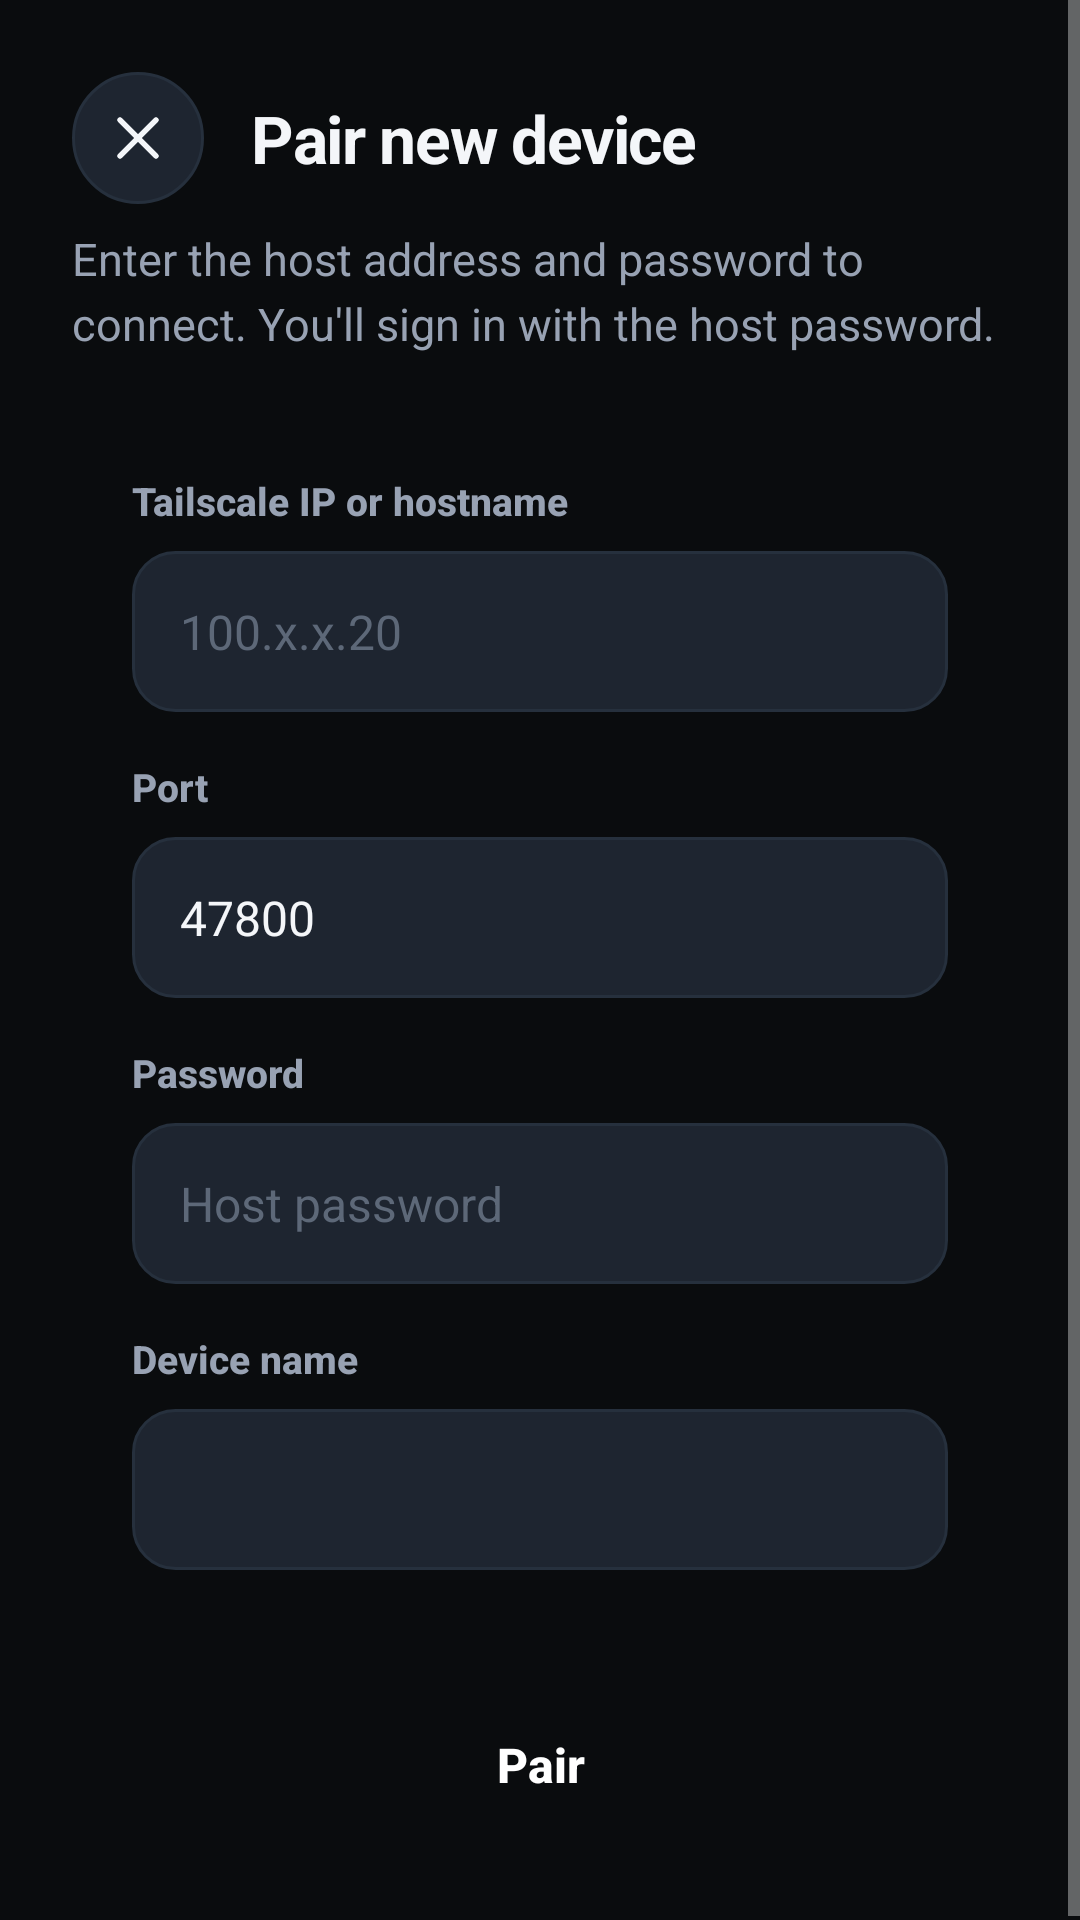

Where to tap for icons on this 1080w x 1920h app screen, as (x,y):
Back: (138,138)
